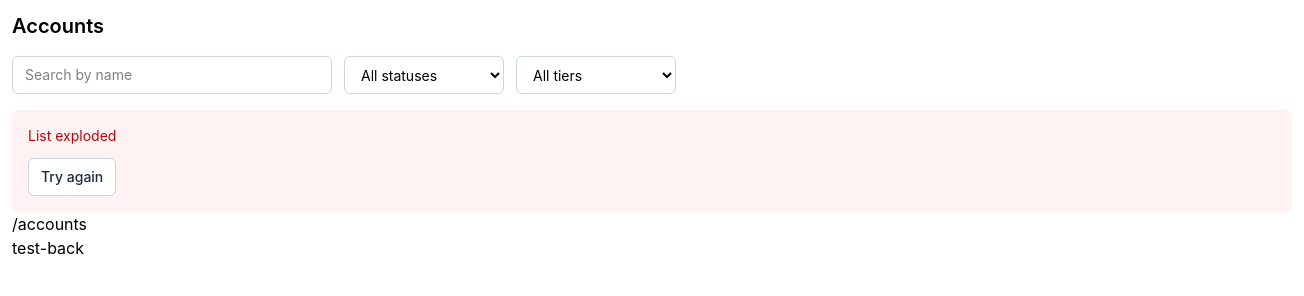
Test: AccountsPage › shows an error state with Try again
Check: the text "List exploded" is shown, box [28,127,116,144]
Click the button "Try again" at x=72, y=177, box [28,158,116,196]
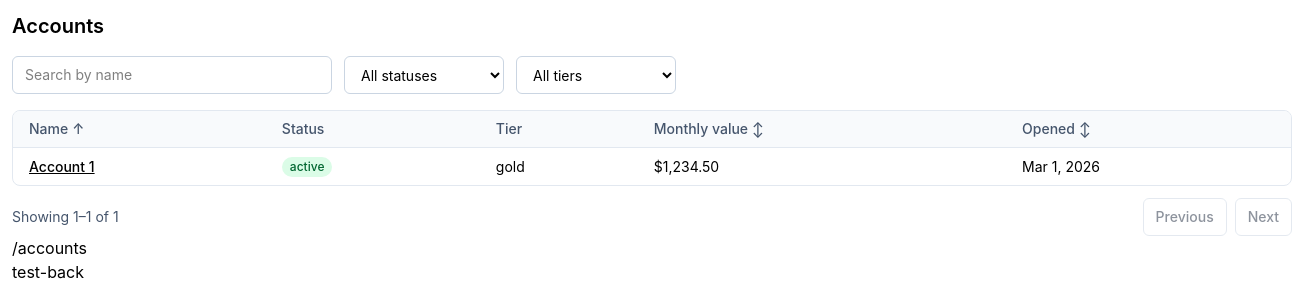
Check: the link "Account 1" is shown, box [29,158,95,174]
Check: the text "List exploded" is gone
